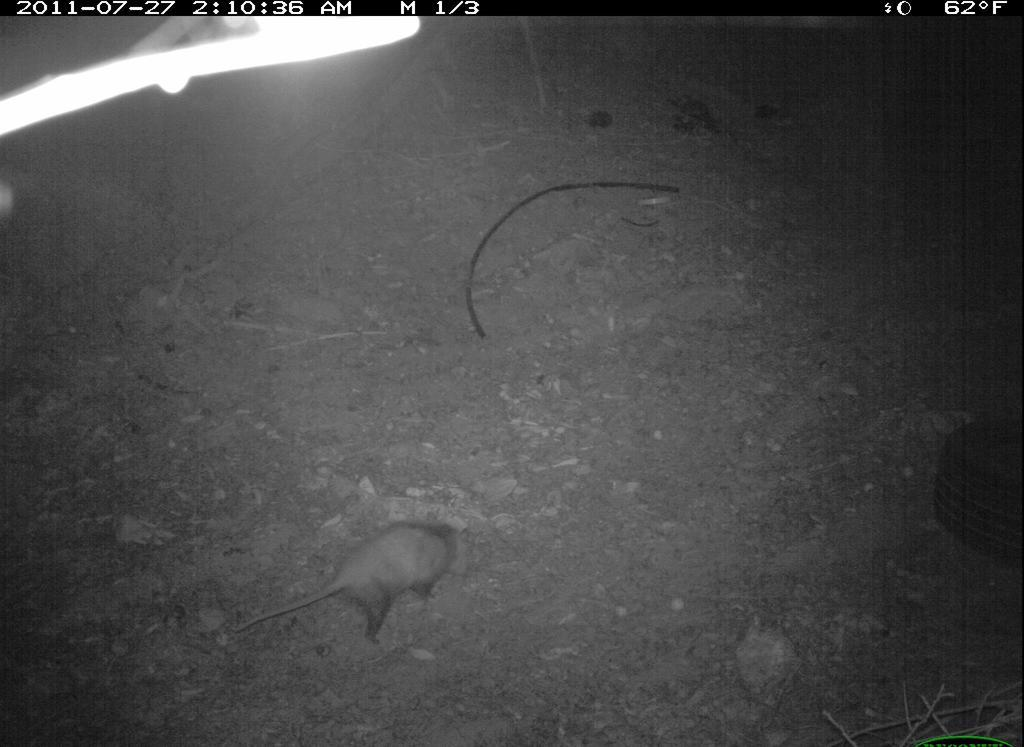opossum: (228, 514, 465, 653)
